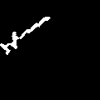double_crochet: (0, 17, 49, 54)
